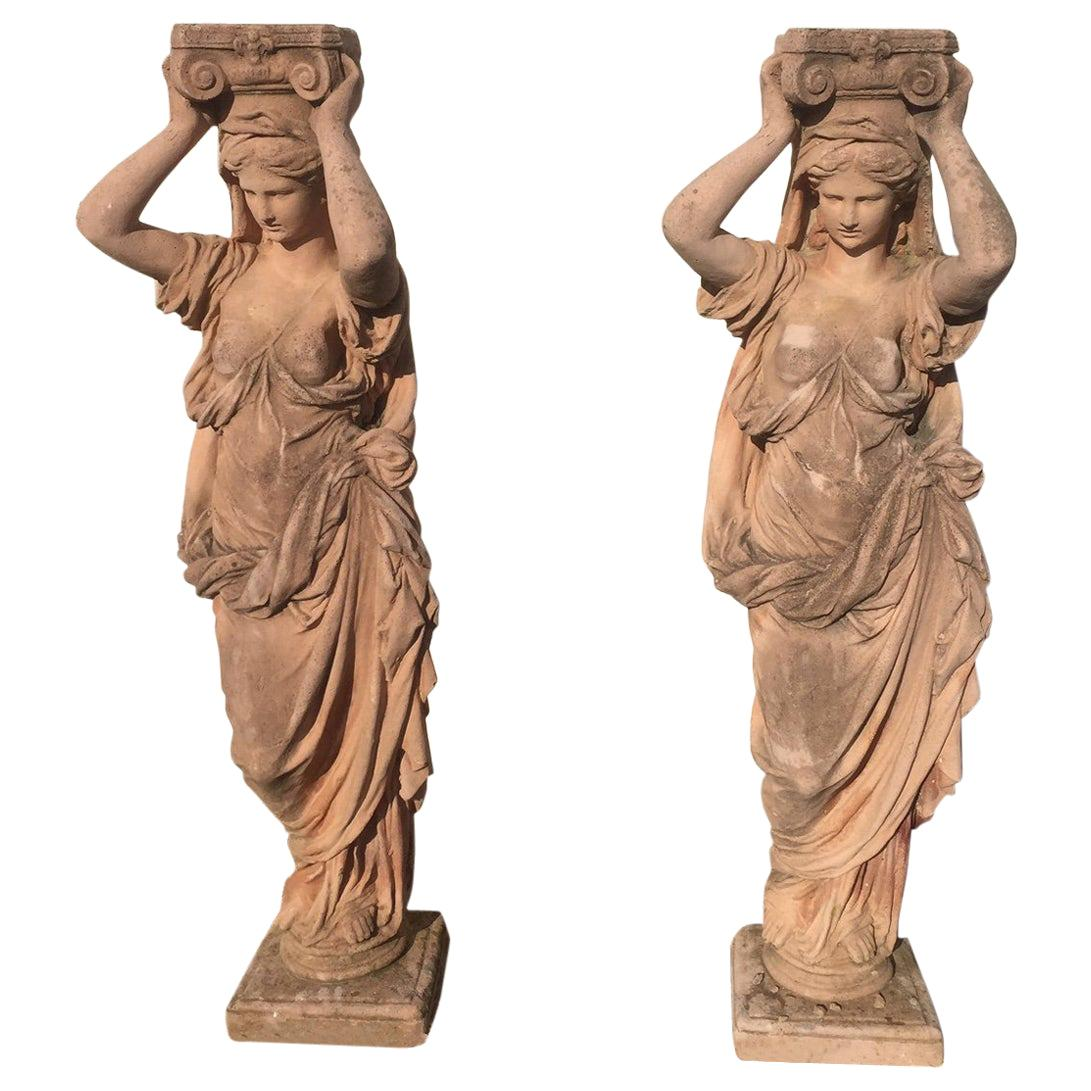person-like: (70, 11, 464, 1056), (644, 16, 1024, 1075)
